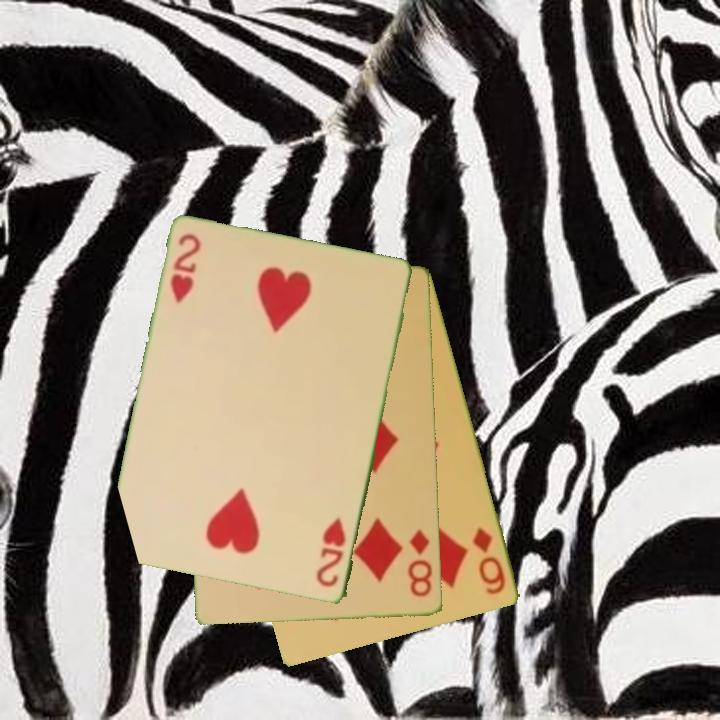2h: (167, 230, 204, 307), (313, 513, 349, 591)
6d: (470, 524, 509, 598)
8d: (405, 526, 435, 600)
